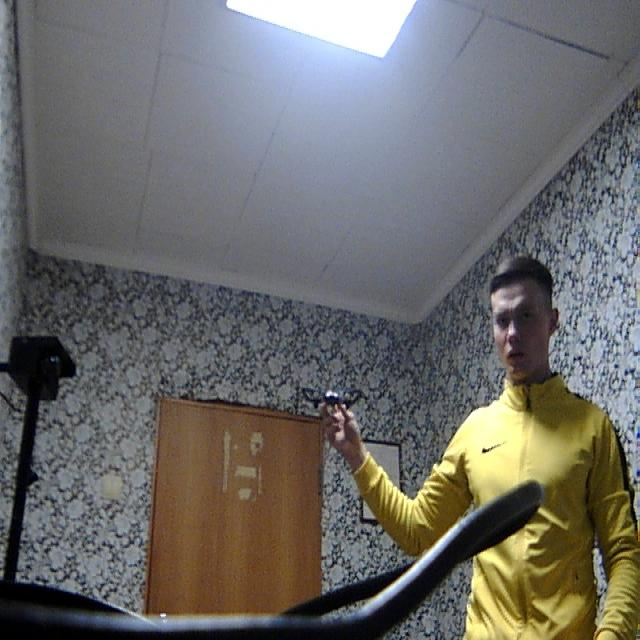drone: (291, 373, 373, 422)
